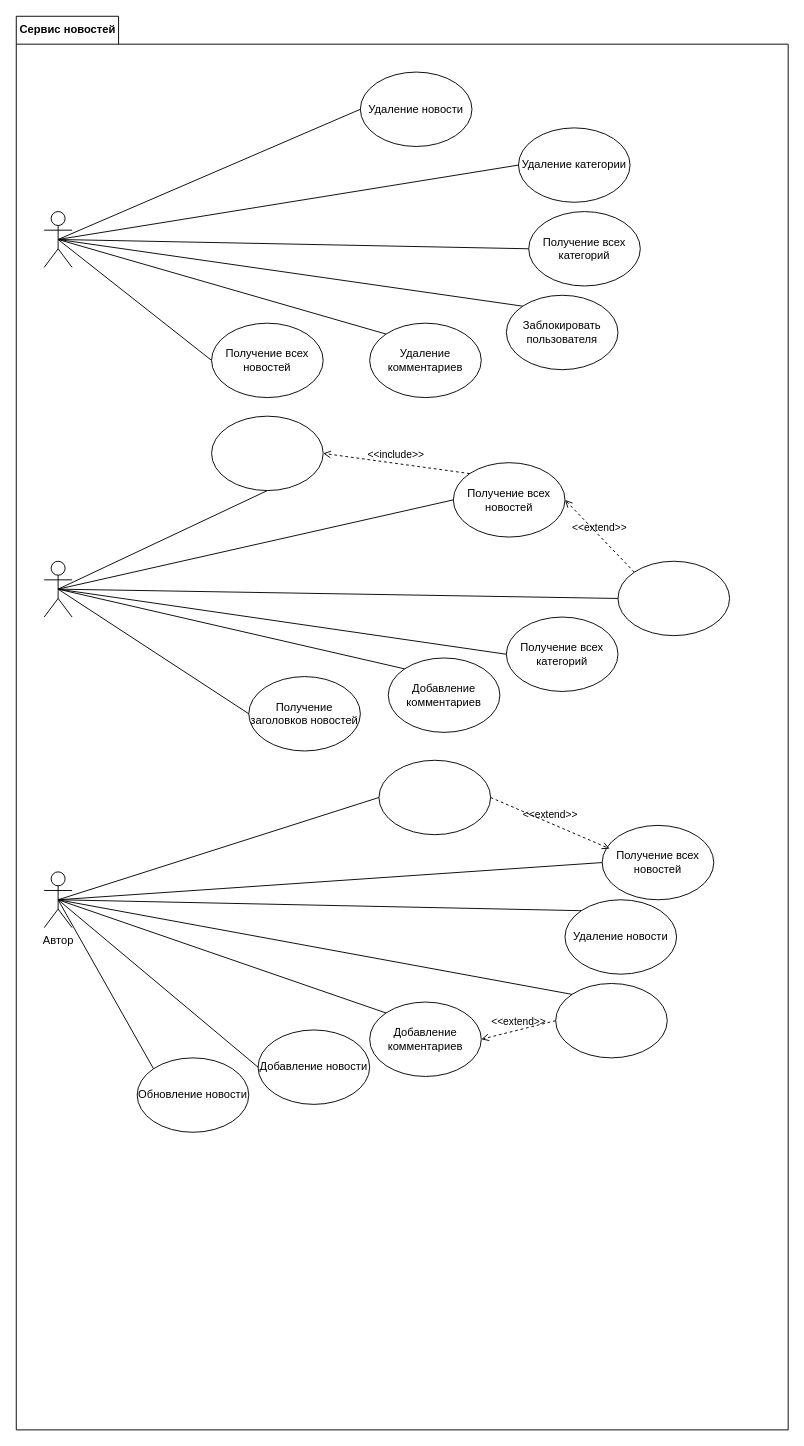
Image size: 804x1446. Some labels were removed from this diagram. Here are the shapes that lost their labels. From the top down, the centre of each, then its label:
At point (57, 239): "Администратор".
At point (267, 453): "Сортировать полученные новости".
At point (57, 588): "Читатель".
At point (673, 598): "Получение хороших новостей".
At point (434, 797): "Получение авторских новостей".
At point (611, 1020): "Добавление авторских комментариев".
